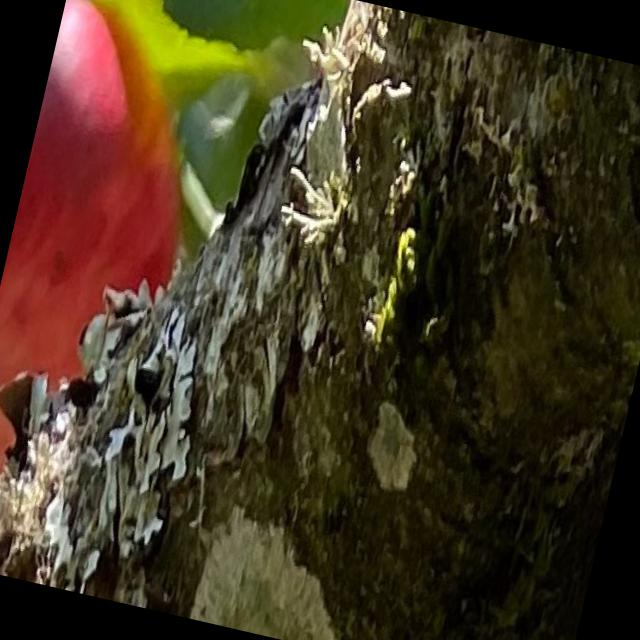Apples: (0, 0, 233, 506)
